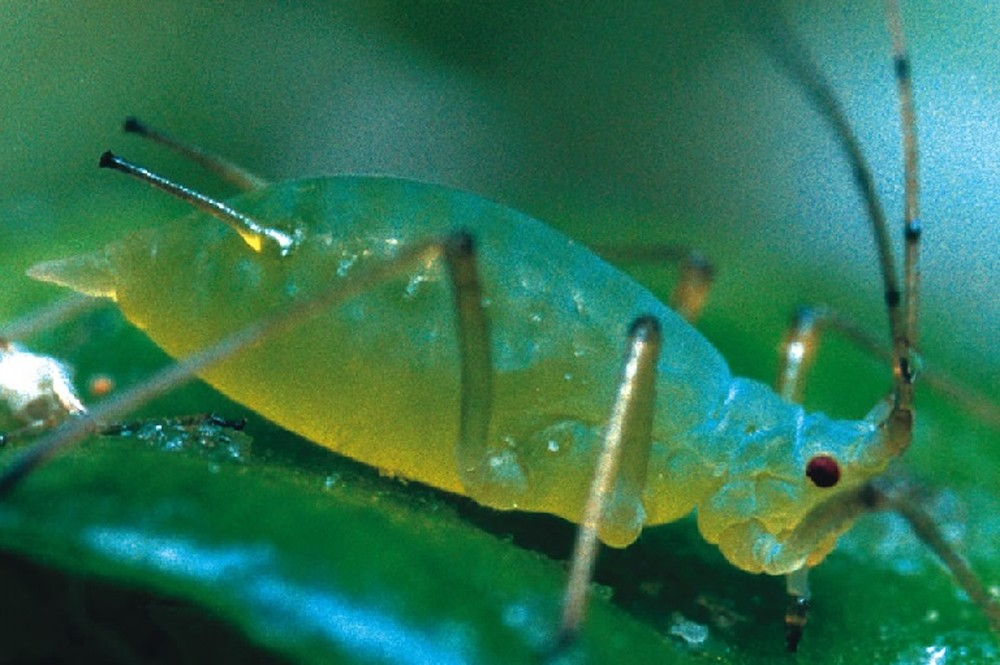Pulgon: (55, 78, 993, 652)
